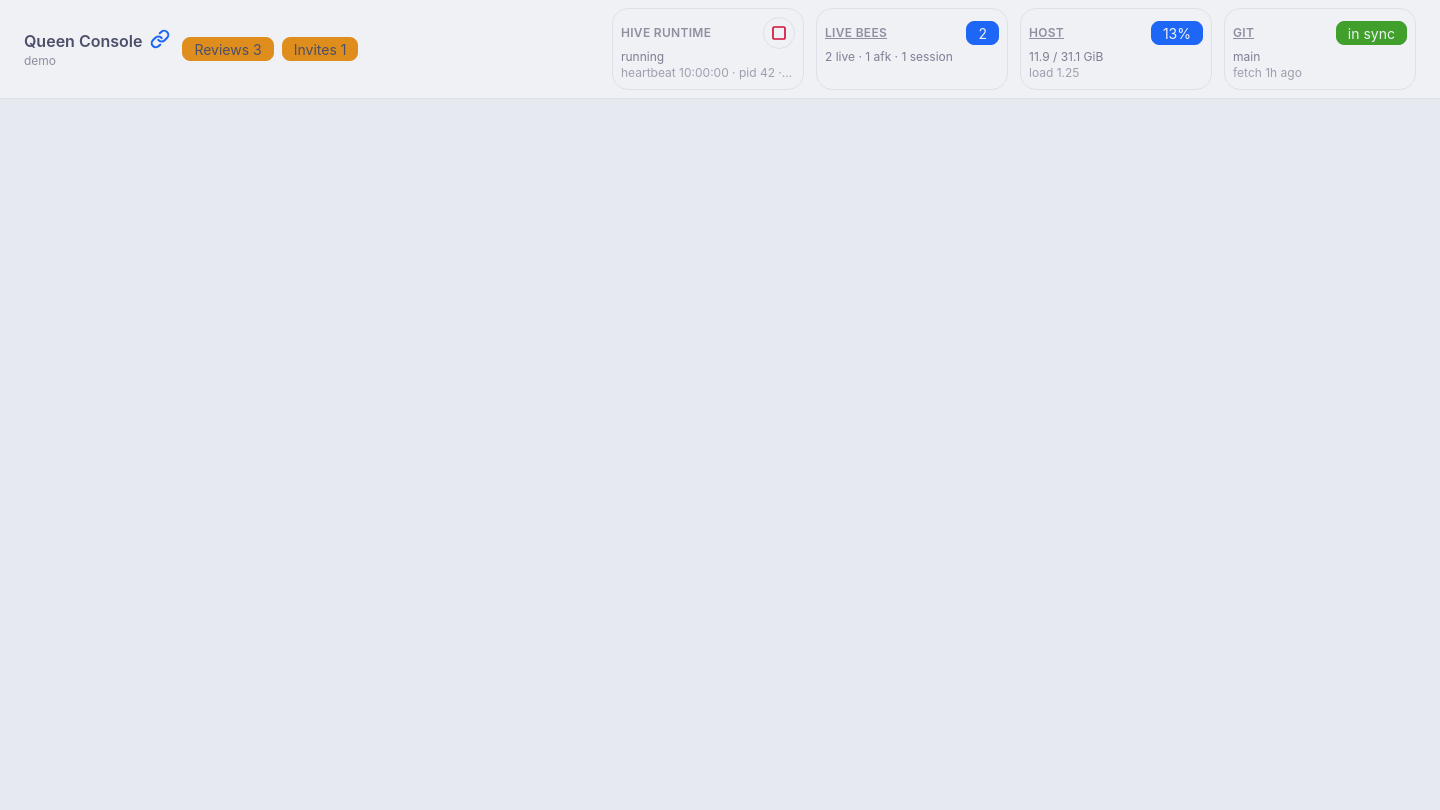
Test case: Header › confirms before stopping and cancels on Escape
Click the button named "Stop hive runtime": (779, 33) [763, 17, 795, 49]
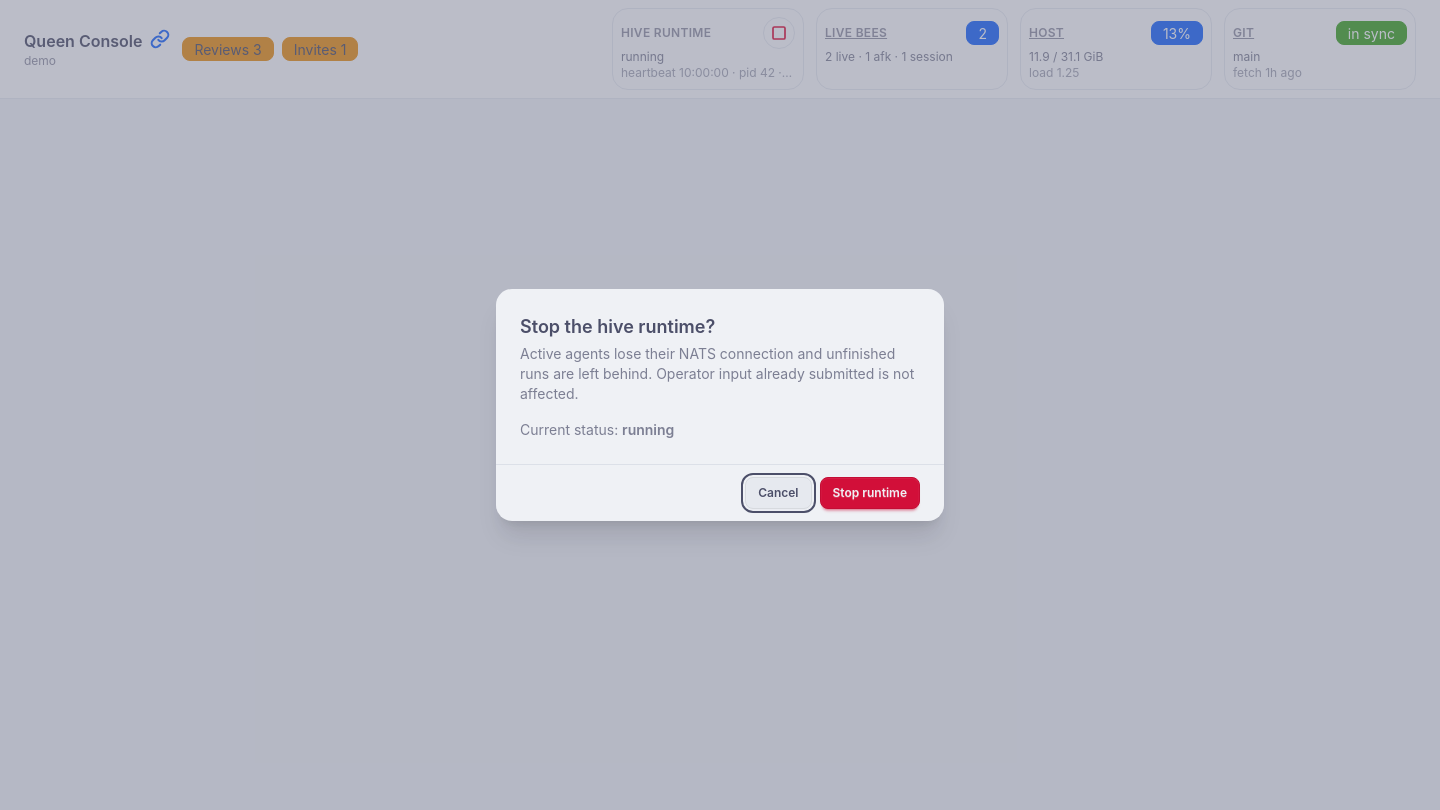
Expected: the dialog shows "Stop the hive runtime?", [520, 316, 715, 337]
Press Escape
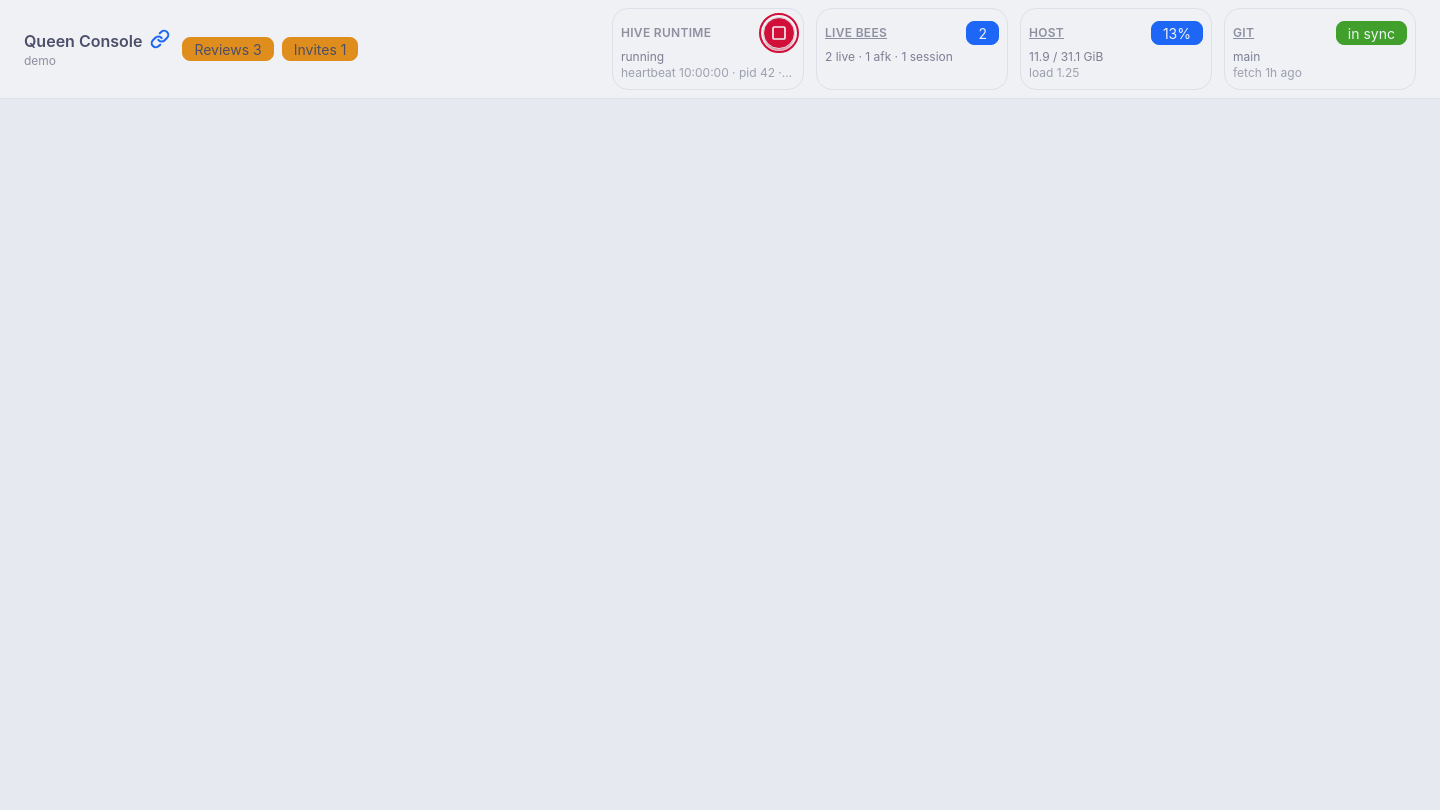
Expected: the dialog is gone
